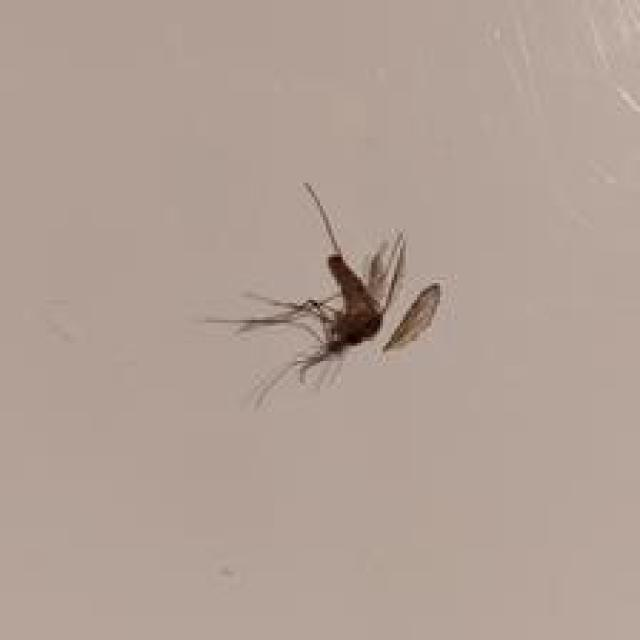Culex: (204, 180, 442, 409)
